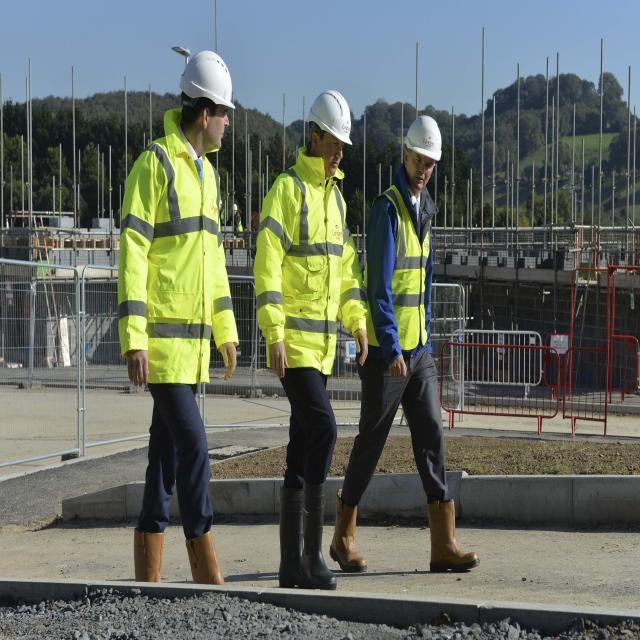Vest: (122, 128, 228, 374), (261, 146, 354, 365), (369, 176, 440, 351)
